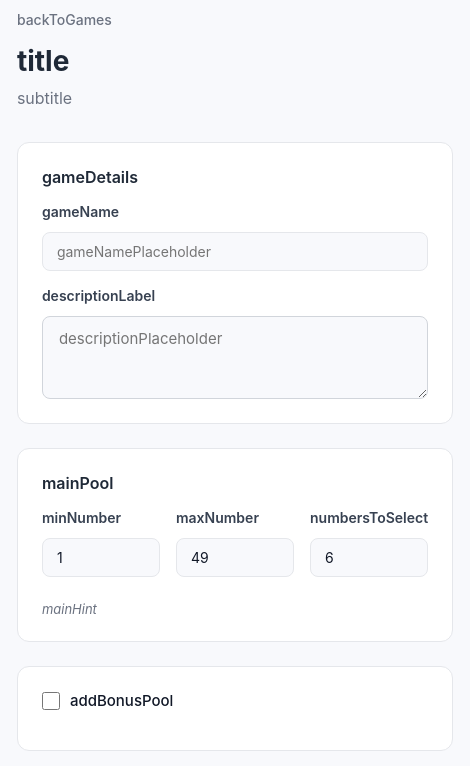
Test case: CreateGamePage › should show error message on API failure
The image size is (470, 766).
In the field labelled "gameName": (235,252) top-left (42, 232), bottom-right (428, 271), type "My Lottery"
(page scrolled)
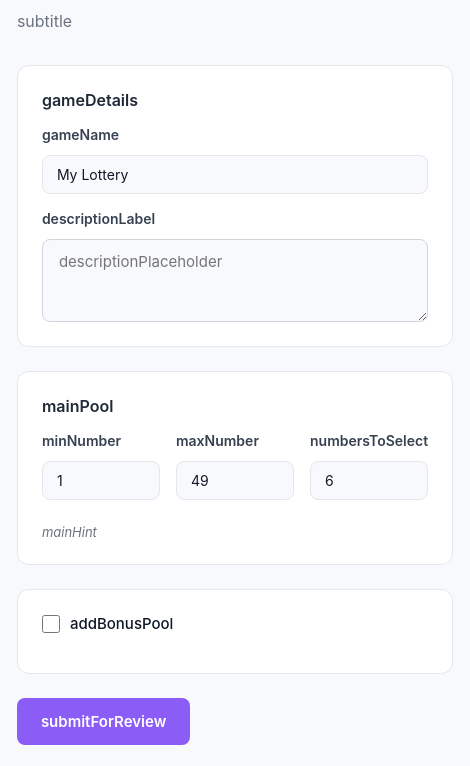
Click the button "submitForReview": (104,722) top-left (17, 698), bottom-right (190, 745)
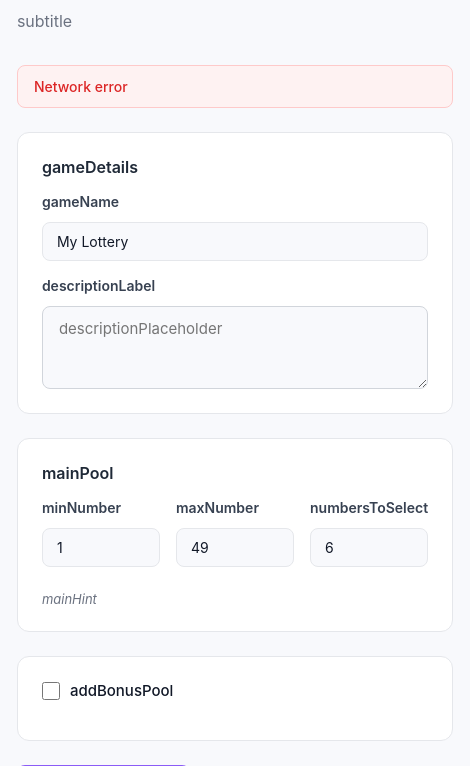
Expected: the message "Network error" is shown, top-left (17, 65), bottom-right (453, 108)
Expected: the message reads "Network error", top-left (34, 78), bottom-right (128, 95)
